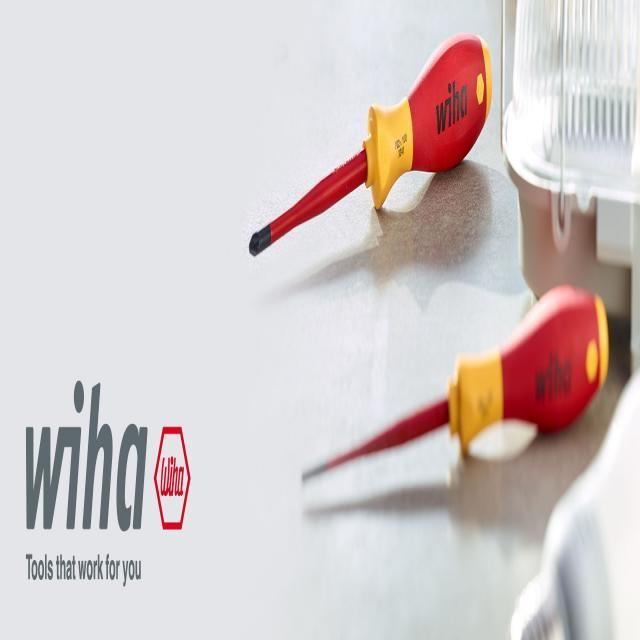screwdriver: (300, 278, 610, 504), (246, 32, 494, 274)
